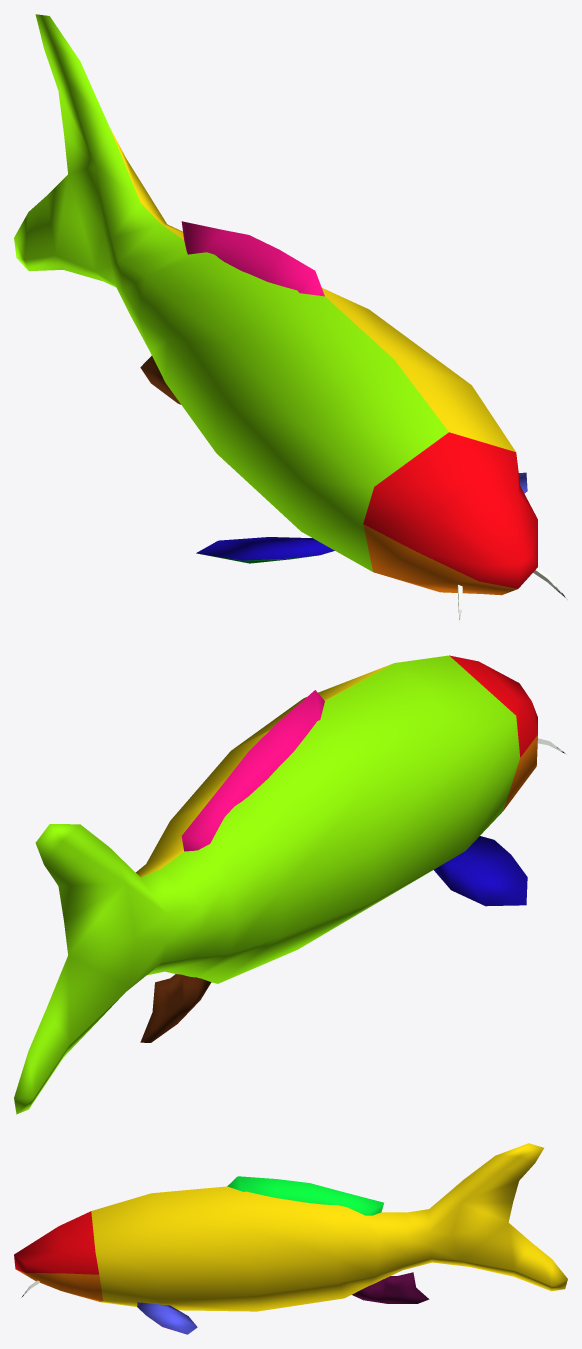
The model's file is koifish.glb.
3 views of the same model, one above another, from view 1: azimuth 30°, elevation 25°; view 2: azimuth 150°, elevation 25°; view 3: azimuth 270°, elevation 25° (orthographic). The views are drawn at different scales.
Parts seen in each view (by area): view 1: koifish; view 2: koifish; view 3: koifish.
Boxes of the visible parts, left/top/right/bottom form: koifish: left=14, top=14, right=567, bottom=626; koifish: left=14, top=655, right=566, bottom=1114; koifish: left=14, top=1143, right=567, bottom=1334.
Bounding box in the file's own units: 1.68 × 1.49 × 4.45.
Materials: 1 (1 with a texture image).
